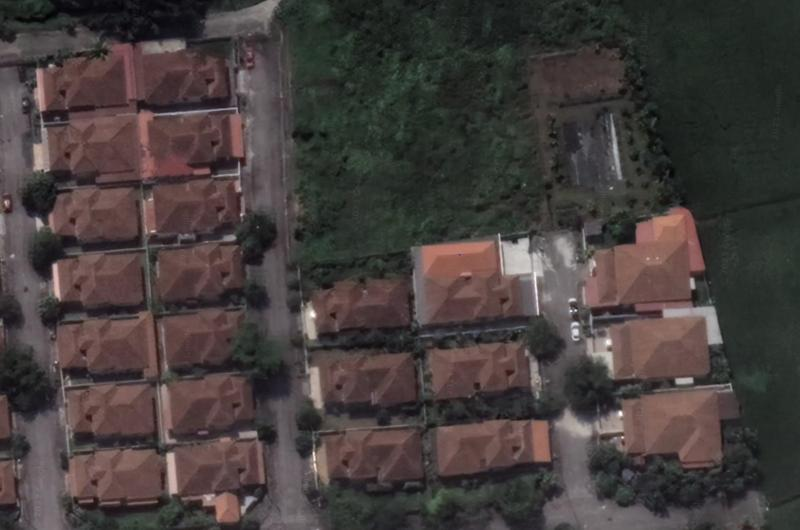building: (582, 205, 711, 312), (415, 238, 523, 329), (172, 432, 268, 525), (621, 388, 725, 470), (158, 370, 261, 446), (145, 105, 247, 180), (40, 109, 142, 183), (434, 418, 553, 478), (308, 272, 414, 339), (423, 337, 532, 402), (611, 314, 712, 384), (66, 447, 170, 511), (63, 375, 158, 445), (326, 425, 431, 488), (138, 46, 231, 111), (53, 315, 155, 374), (41, 50, 129, 118), (157, 243, 244, 311), (145, 178, 239, 240), (324, 350, 422, 409), (55, 250, 145, 313), (159, 308, 245, 372), (49, 186, 136, 246)
